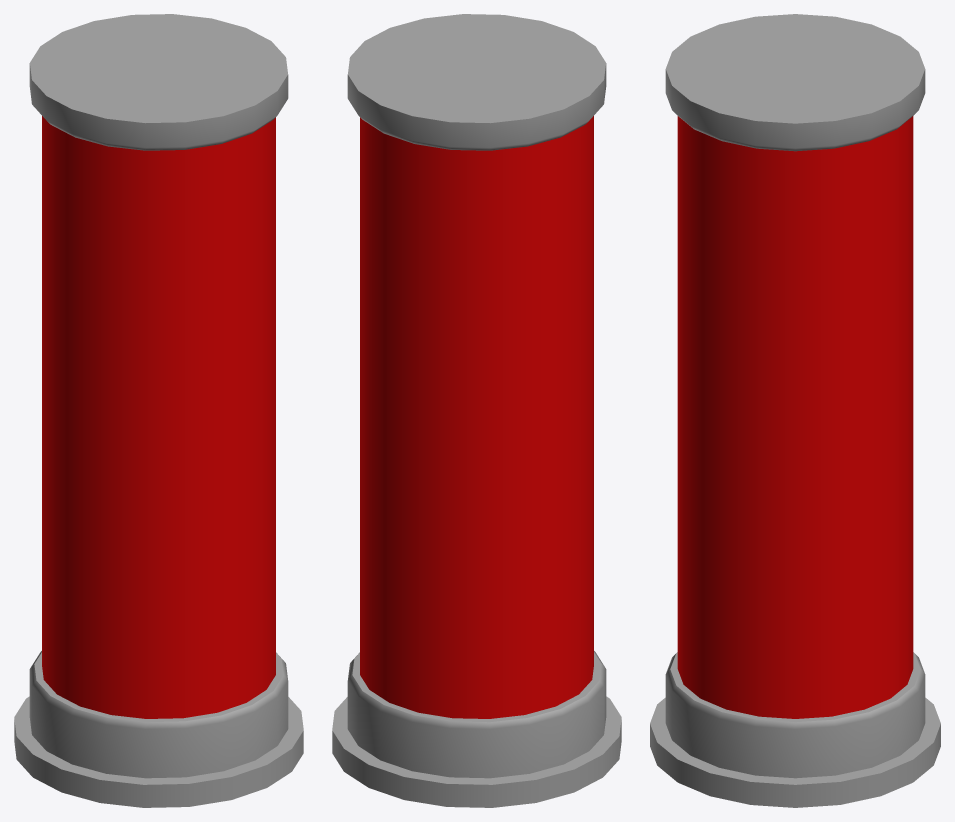
3 views of the same model, side by side, from view 1: azimuth 30°, elevation 25°; view 2: azimuth 150°, elevation 25°; view 3: azimuth 270°, elevation 25° (orthographic).
Visible parts, largest first — view 1: Tube; view 2: Tube; view 3: Tube.
Part boxes in pixels (<box>): Tube: <box>14,14,303,807</box>; Tube: <box>332,14,621,807</box>; Tube: <box>650,14,940,807</box>.
Size of the model in its own units: 73.15 by 188 by 73.15.
